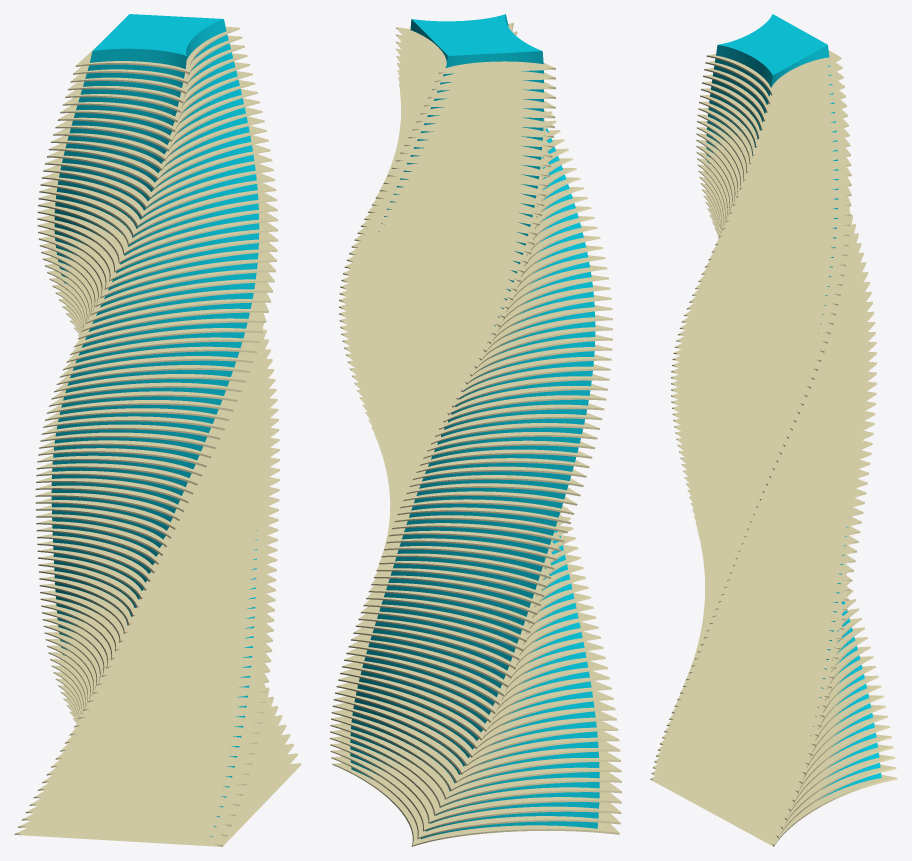
Rendered from Skyscraper.fbx.
3 views of the same model, side by side, from view 1: azimuth 30°, elevation 25°; view 2: azimuth 150°, elevation 25°; view 3: azimuth 270°, elevation 25° (orthographic). The views are drawn at different scales.
Parts seen in each view (by area): view 1: NurbsCircle; view 2: NurbsCircle; view 3: NurbsCircle.
Part boxes in pixels (x1,y1,x2,y2): NurbsCircle: (14,14,301,846); NurbsCircle: (330,14,621,846); NurbsCircle: (650,14,897,846).
Bounding box in the file's own units: 1613 × 4106 × 1253.
